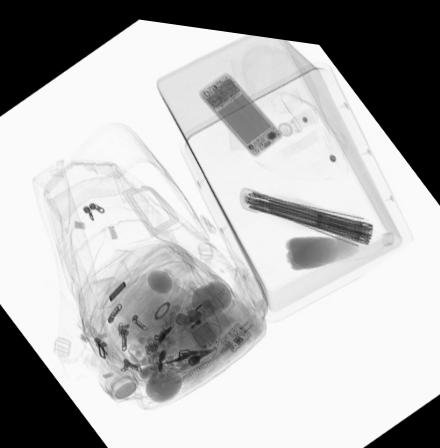Lighter: (175, 302, 210, 339)
